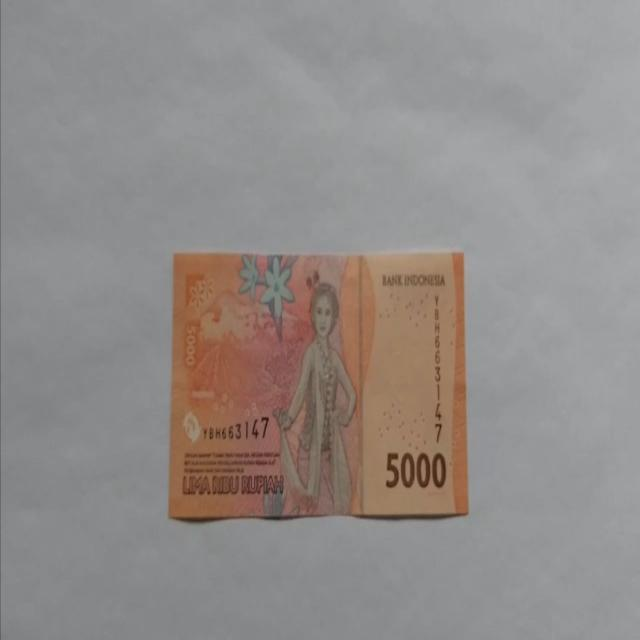lima ribu rupiah: (168, 249, 468, 522), (272, 280, 358, 516)
